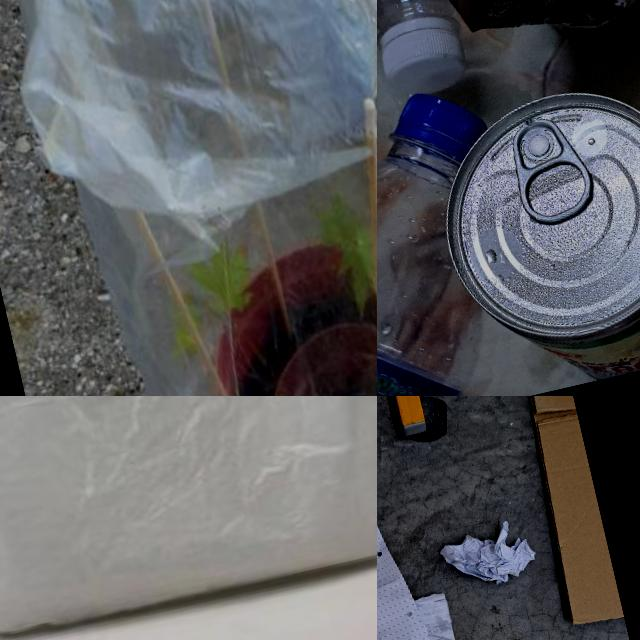aba de lata: (502, 111, 600, 226)
garrafa plástica: (377, 124, 515, 396)
lata: (417, 57, 640, 396), (423, 0, 640, 57)
papel: (377, 457, 493, 640), (434, 514, 540, 594)
papelão: (496, 396, 623, 628)
sacola plástica: (0, 0, 377, 396), (0, 396, 377, 640)
tampa plástica: (377, 14, 473, 105), (394, 80, 492, 164)
